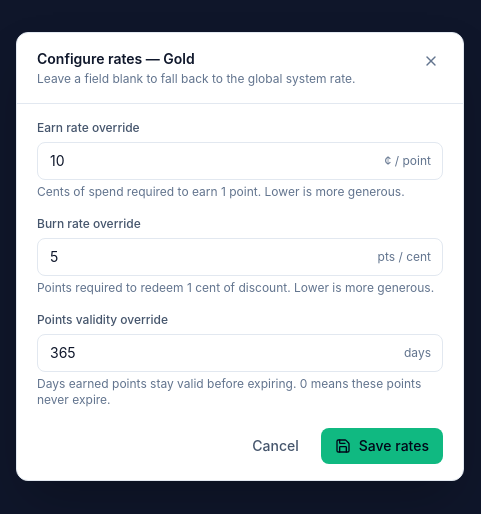
Scenario: RateConfigModal › validates that rates must be positive
The width and height of the screenshot is (481, 514).
Replace the text in the number field labelled "Earn rate override" with "-5" at (240, 160), box [37,142,443,180]
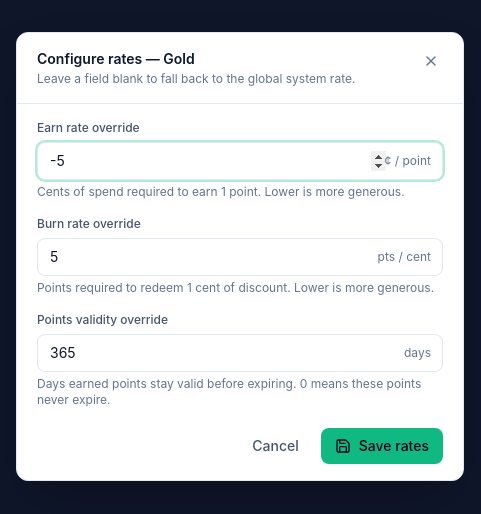
Click the button "Save rates".
click(382, 446)  # box [321,428,443,464]
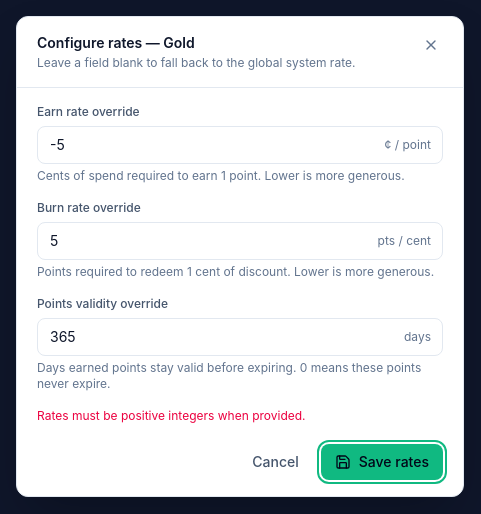
Now the text "Rates must be positive integers when provided." is shown, box [37,408,306,422]
